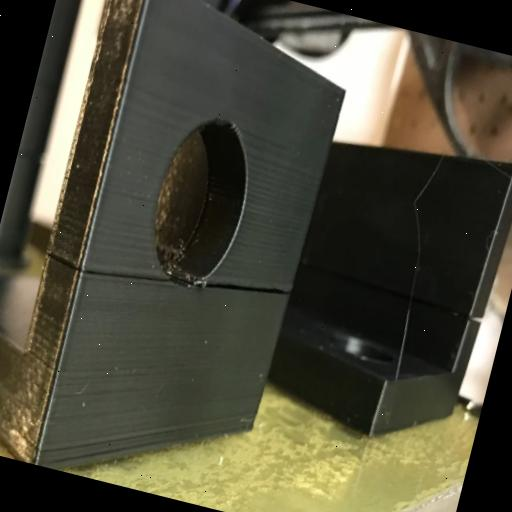cracks: (55, 244, 171, 296), (202, 262, 289, 318), (397, 288, 486, 331)
